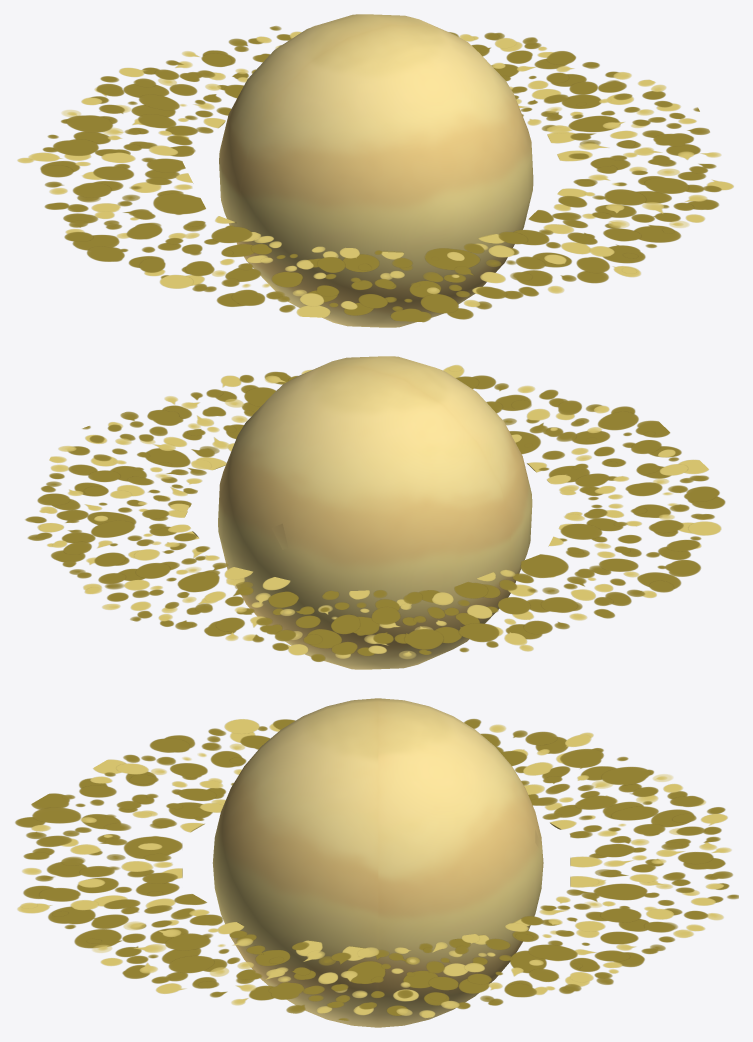
The model's file is Saturno.glb.
The picture shows the model from 3 angles, top to bottom: view 1: azimuth 30°, elevation 25°; view 2: azimuth 150°, elevation 25°; view 3: azimuth 270°, elevation 25°; orthographic projection. The views are drawn at different scales.
Visible parts, largest first — view 1: Planeta, pTorus1; view 2: Planeta, pTorus1; view 3: Planeta, pTorus1.
Boxes of the visible parts, box(x1,y1,x2,y2) form: Planeta: box(219, 14, 533, 327); pTorus1: box(17, 26, 733, 322); Planeta: box(218, 356, 532, 669); pTorus1: box(25, 365, 725, 661); Planeta: box(212, 698, 543, 1027); pTorus1: box(15, 719, 738, 1020).
Bounding box in the file's own units: 0.2603 × 0.1123 × 0.2476.
2 materials, 2 textured.
